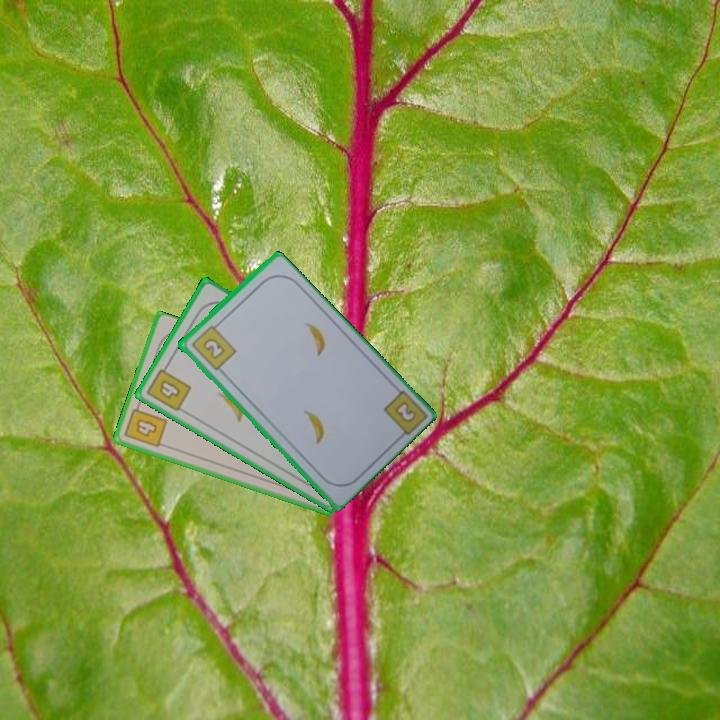2b: (187, 319, 239, 373), (391, 397, 419, 426)
4b: (143, 360, 194, 414), (121, 399, 170, 450)
